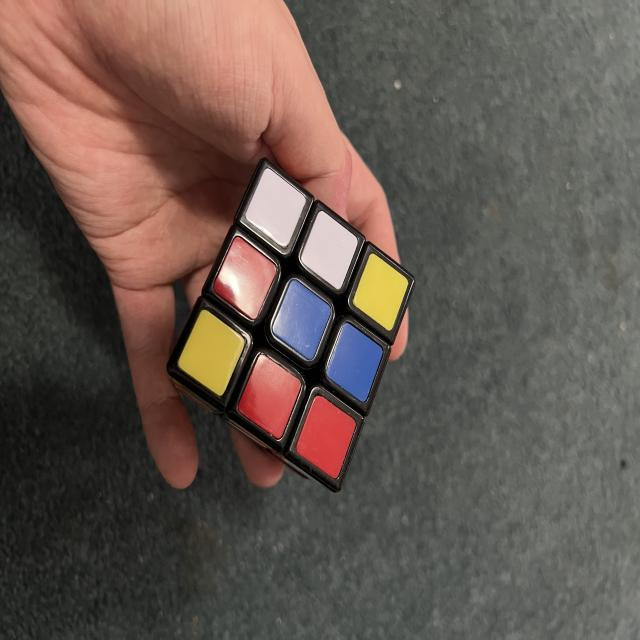blue: (265, 277, 339, 361), (318, 320, 390, 404)
center: (266, 278, 338, 362)
red: (229, 352, 310, 441), (206, 235, 284, 321), (289, 393, 362, 480)
white: (233, 166, 318, 249), (293, 210, 364, 290)
yellow: (171, 307, 252, 397), (346, 252, 414, 331)
